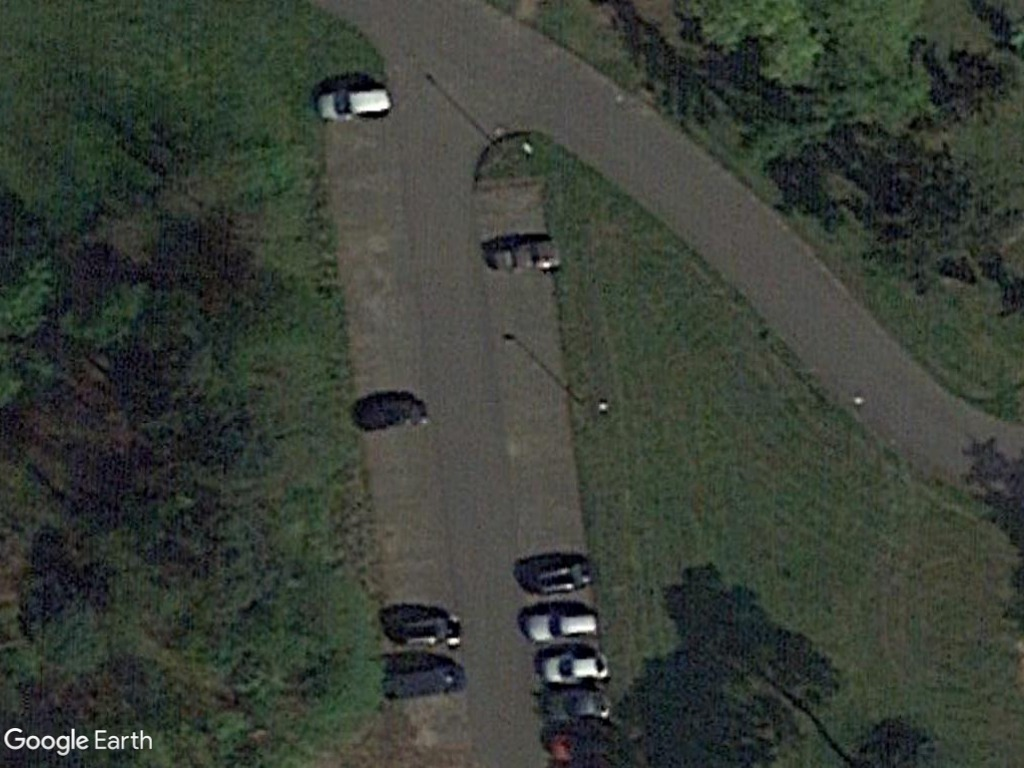car: (519, 600, 607, 647), (310, 77, 396, 124), (530, 641, 616, 684)
